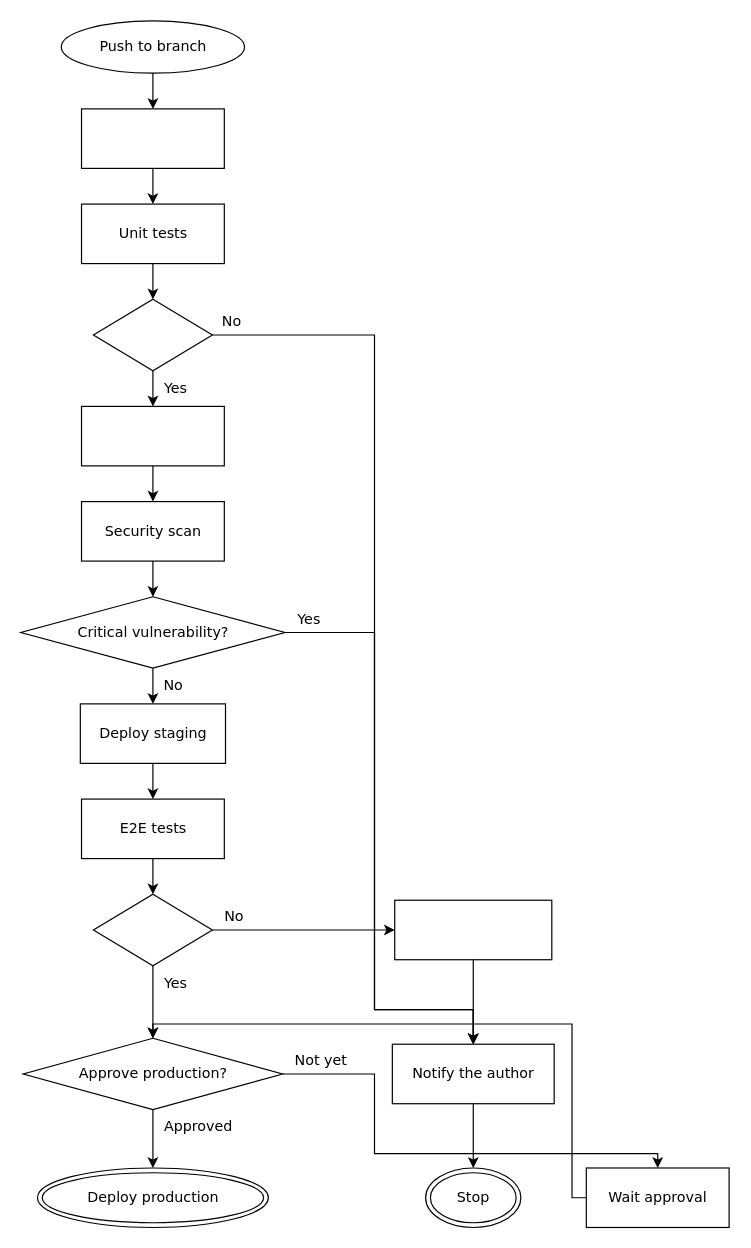
Some shapes in this 751 by 1248 pixel diagram are drawn without their labels. Each missing label, with the centre of its shape:
All pass?: the point at 152,334
Build image: the point at 152,435
OK?: the point at 152,929
Rollback staging: the point at 473,929
Run lint: the point at 152,138
